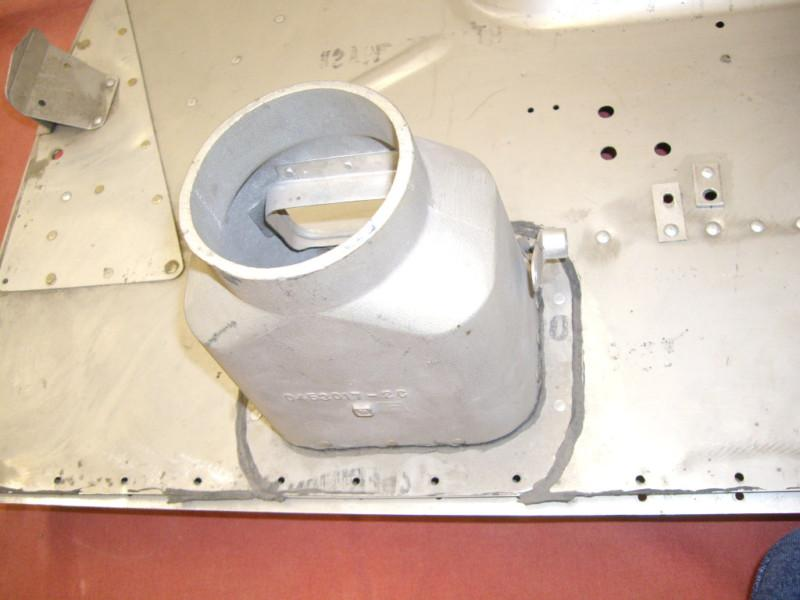hole: (596, 105, 616, 121), (654, 142, 673, 158), (601, 145, 618, 162), (50, 148, 65, 163), (703, 189, 718, 203), (510, 473, 524, 485), (732, 491, 747, 502), (634, 475, 649, 486), (733, 471, 745, 484), (636, 492, 650, 503), (662, 194, 674, 206), (429, 476, 442, 487), (53, 475, 64, 487), (351, 475, 362, 487), (714, 20, 726, 30), (192, 477, 203, 487), (277, 475, 287, 485), (39, 98, 48, 109), (120, 476, 130, 485), (552, 103, 561, 112), (3, 276, 11, 286), (526, 106, 535, 114)
rivet: (163, 258, 182, 278), (704, 220, 723, 239), (248, 405, 265, 424), (663, 223, 680, 240), (594, 229, 611, 246), (748, 220, 767, 235), (552, 399, 569, 414), (101, 265, 117, 280), (77, 36, 93, 51), (700, 167, 716, 181), (553, 292, 568, 306), (46, 272, 59, 287), (92, 114, 105, 128), (142, 138, 153, 154), (152, 193, 165, 206), (185, 97, 199, 109), (93, 185, 107, 197), (61, 191, 73, 204), (104, 77, 117, 89), (117, 26, 129, 38), (231, 56, 243, 68), (273, 15, 286, 26), (48, 230, 59, 242), (127, 77, 138, 88), (63, 62, 72, 73)
